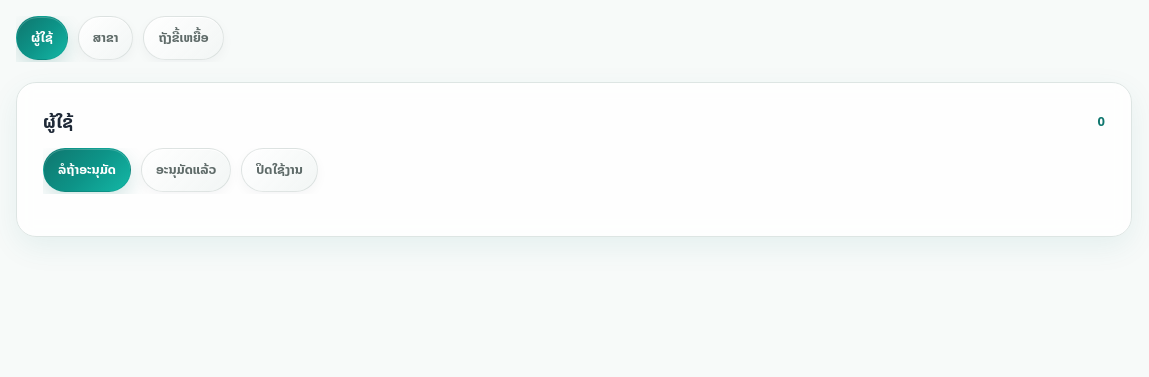
Scenario: Admin disabled-user lifecycle › announces a row-level save failure without red utility styling
Step 1. Click the button "ປິດໃຊ້ງານ" → (280, 170), box left=241, top=148, right=318, bottom=192
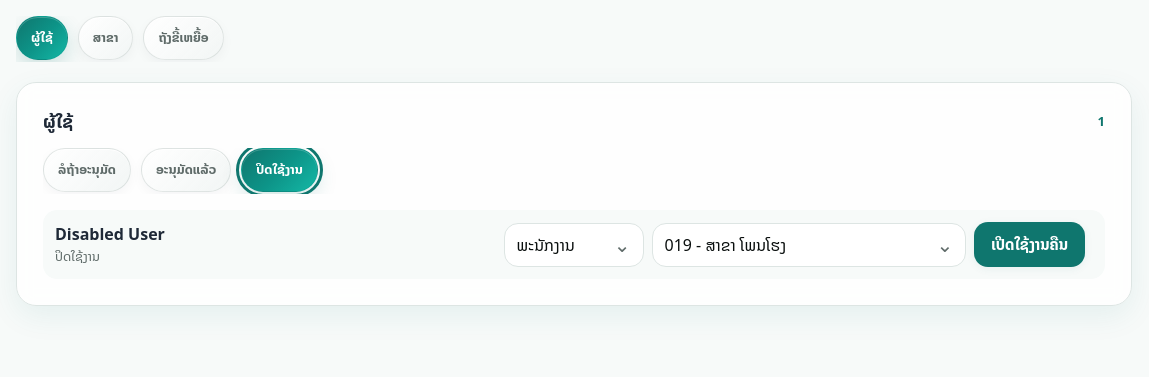
Step 2. Click the button "ເປີດໃຊ້ງານຄືນ" → (1030, 245), box left=974, top=222, right=1085, bottom=268
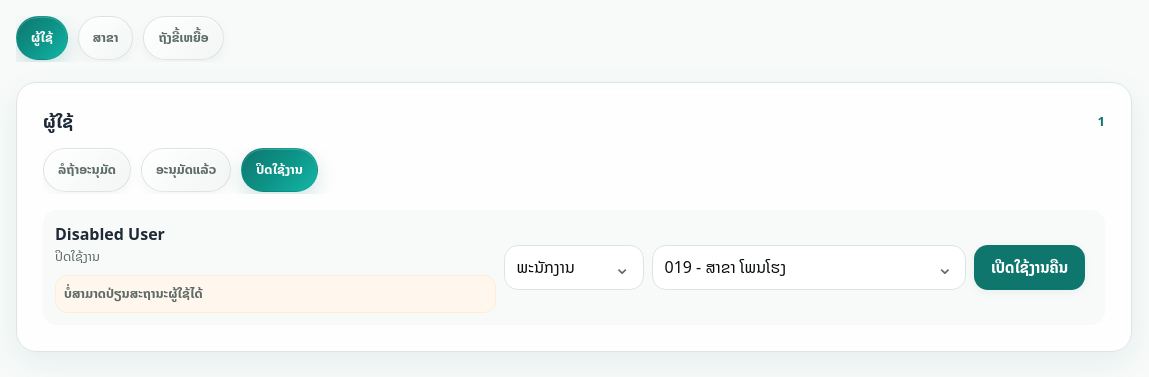
Result: the message reads "ບໍ່ສາມາດປ່ຽນສະຖານະຜູ້ໃຊ້ໄດ້" at left=64, top=283, right=203, bottom=304
